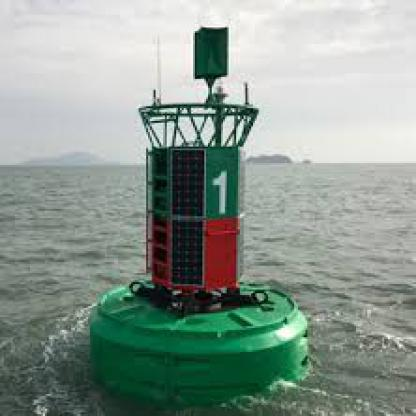buoy: (73, 7, 321, 412)
